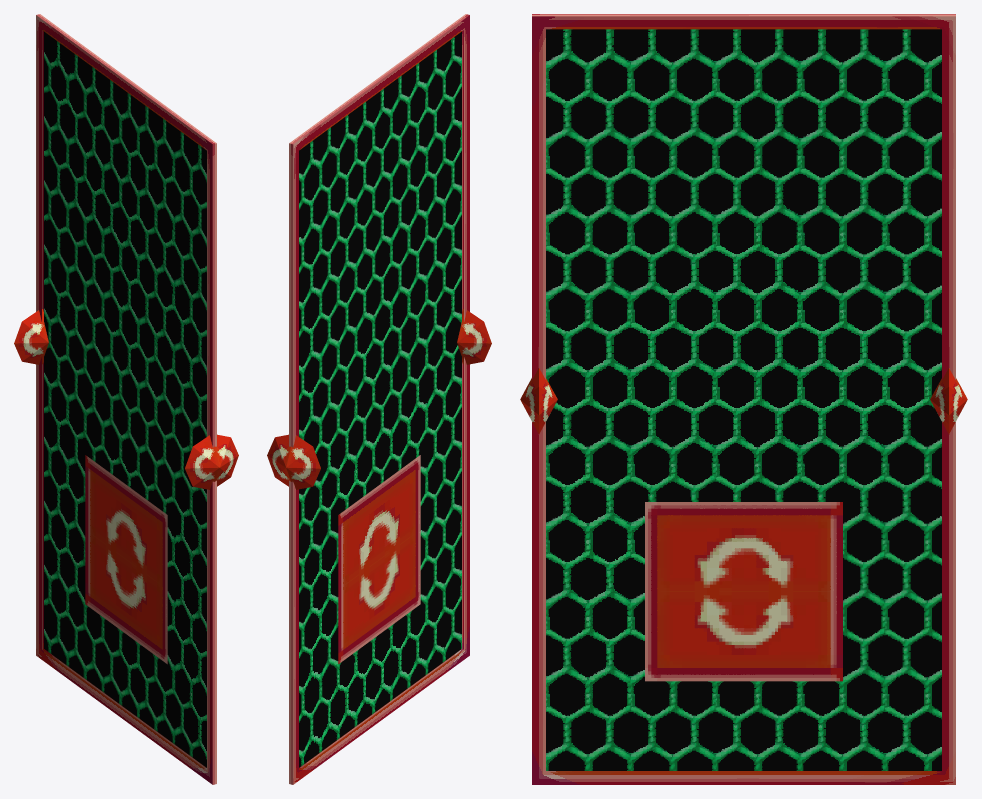
The model's file is fencewaterh.dae.
3 views of the same model, side by side, from view 1: azimuth 30°, elevation 25°; view 2: azimuth 150°, elevation 25°; view 3: azimuth 270°, elevation 25° (orthographic). The views are drawn at different scales.
Visible parts, largest first — view 1: m0, m1; view 2: m0, m1; view 3: m0, m1.
Part boxes in pixels (<box>): m0: <box>44,31,206,767</box>; m1: <box>14,14,238,784</box>; m0: <box>299,31,461,767</box>; m1: <box>267,14,491,784</box>; m0: <box>546,29,941,770</box>; m1: <box>520,14,967,784</box>.
Size of the model in its own units: 53.09 by 600 by 317.
